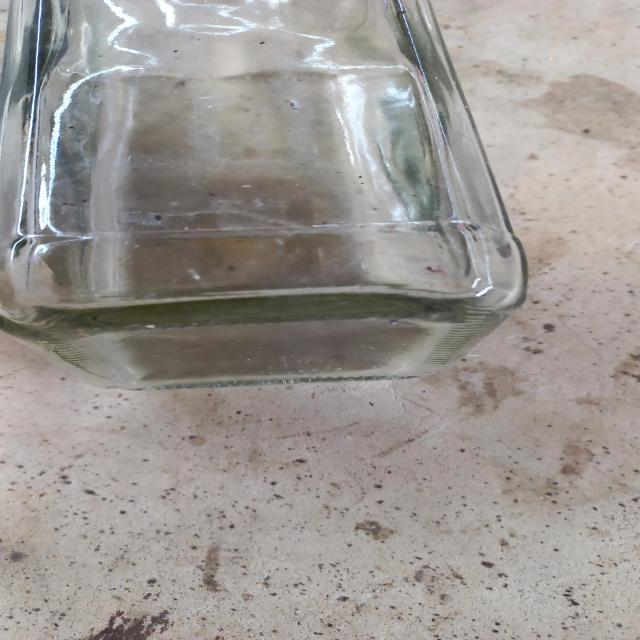Glass: (0, 0, 529, 394)
